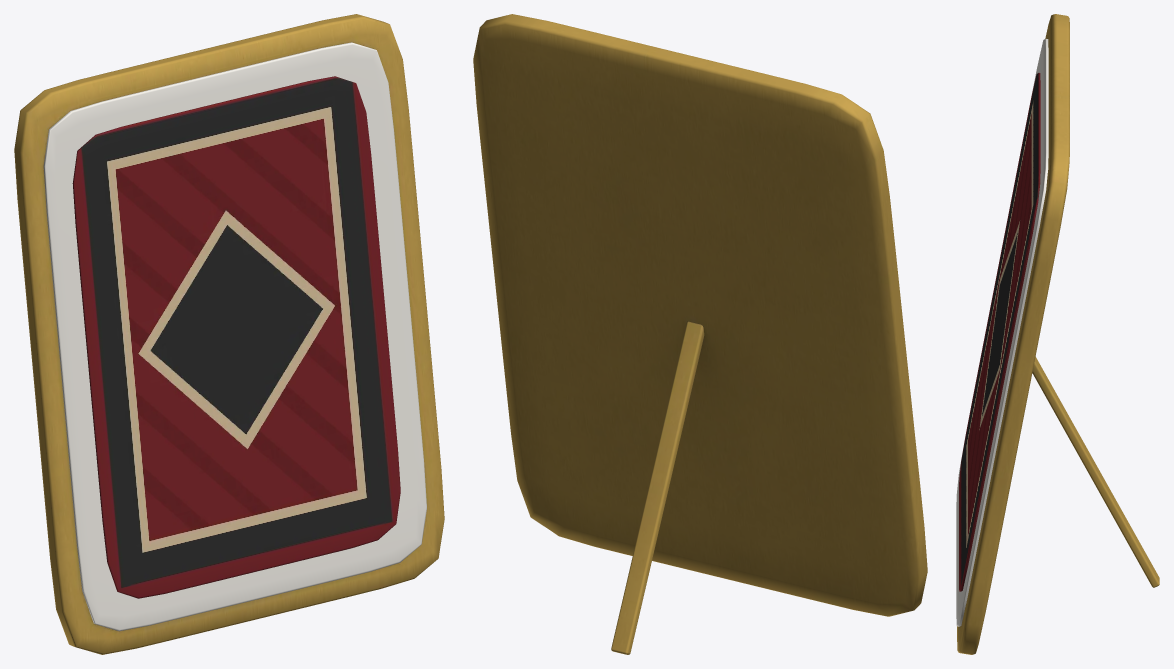
File: gilt-classic.glb
3 views of the same model, side by side, from view 1: azimuth 30°, elevation 25°; view 2: azimuth 150°, elevation 25°; view 3: azimuth 270°, elevation 25° (orthographic). The views are drawn at different scales.
Parts seen in each view (by area): view 1: artwork_2, mat_board, gilt; view 2: gilt; view 3: gilt, artwork_2, mat_board.
Part boxes in pixels (bbox=[...]): artwork_2: bbox=[72, 76, 400, 598]; mat_board: bbox=[43, 42, 426, 631]; gilt: bbox=[14, 14, 444, 654]; gilt: bbox=[473, 14, 927, 654]; gilt: bbox=[957, 14, 1159, 654]; artwork_2: bbox=[959, 73, 1040, 591]; mat_board: bbox=[956, 39, 1048, 626].
Size of the model in its own units: 0.6 by 0.7909 by 0.2911.
3 materials, 2 textured.
